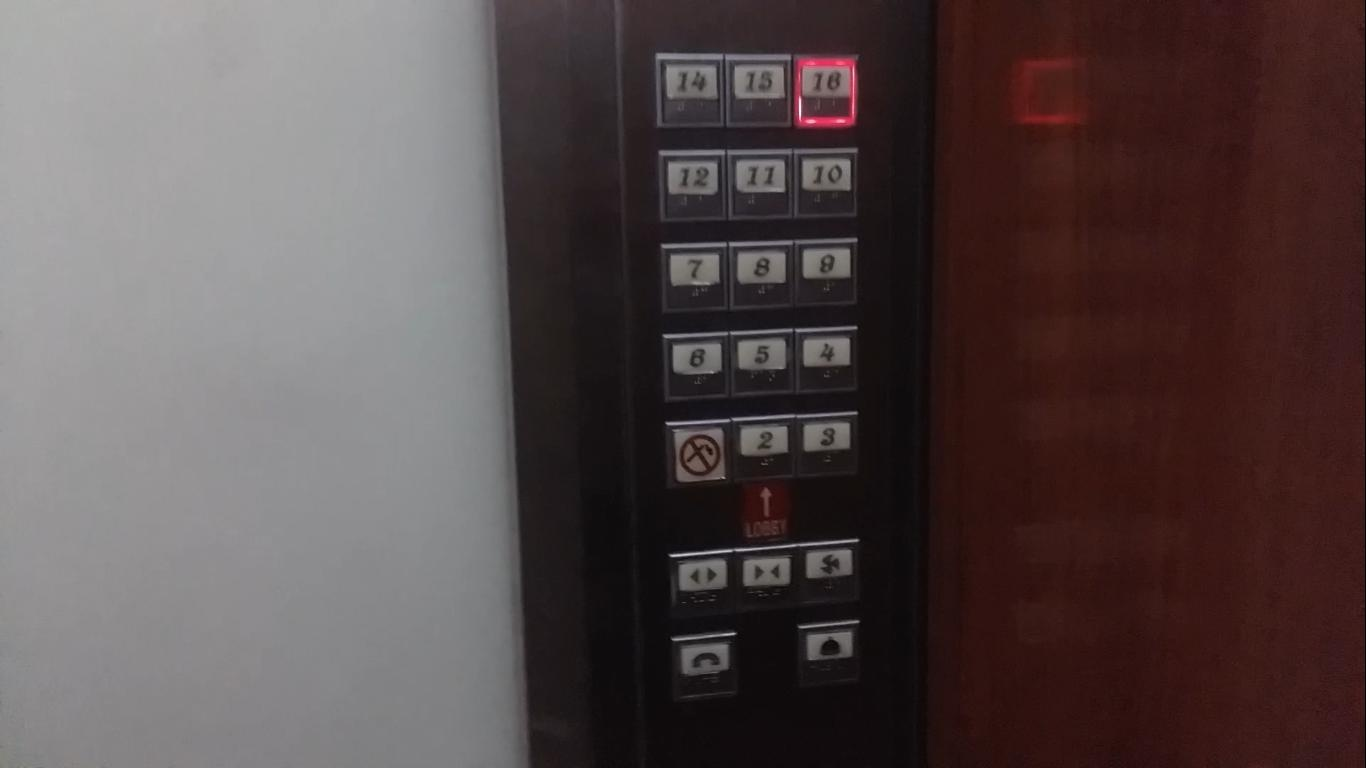10: (794, 145, 855, 221)
11: (729, 147, 793, 222)
12: (657, 148, 726, 224)
14: (657, 51, 725, 127)
15: (728, 54, 790, 129)
16: (793, 54, 857, 129)
2: (732, 412, 794, 481)
3: (796, 408, 863, 474)
4: (794, 323, 860, 393)
5: (727, 325, 792, 396)
6: (661, 329, 729, 405)
7: (661, 243, 726, 312)
8: (728, 240, 790, 308)
9: (794, 238, 857, 303)
alarm: (796, 621, 862, 670)
call: (669, 636, 737, 687)
close: (735, 545, 796, 595)
fan: (798, 536, 860, 591)
open: (665, 546, 736, 608)
unknown: (663, 418, 732, 490)
